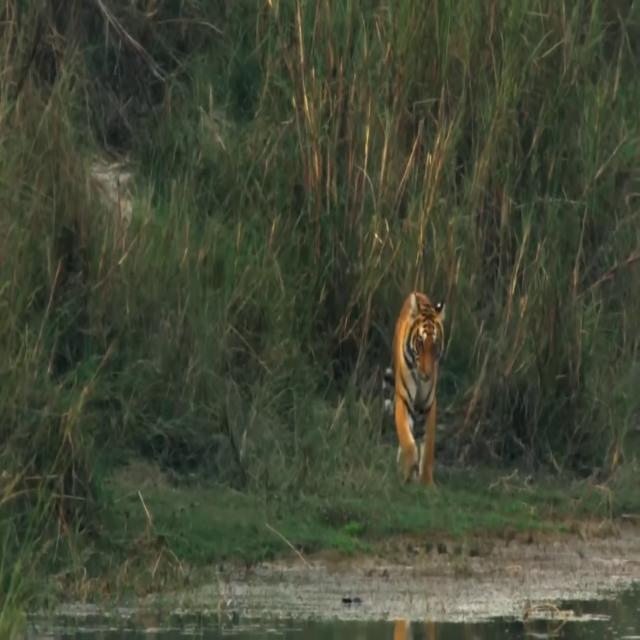tiger: (391, 292, 446, 486)
